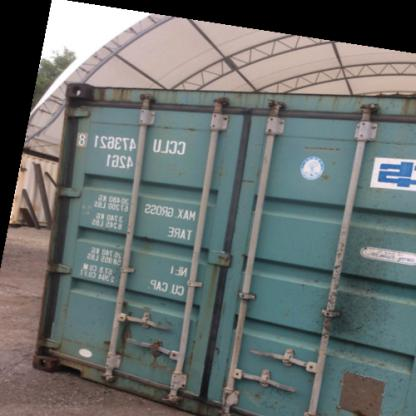Damage: (53, 86, 90, 371), (316, 225, 390, 349), (322, 358, 397, 412), (115, 320, 181, 379)
